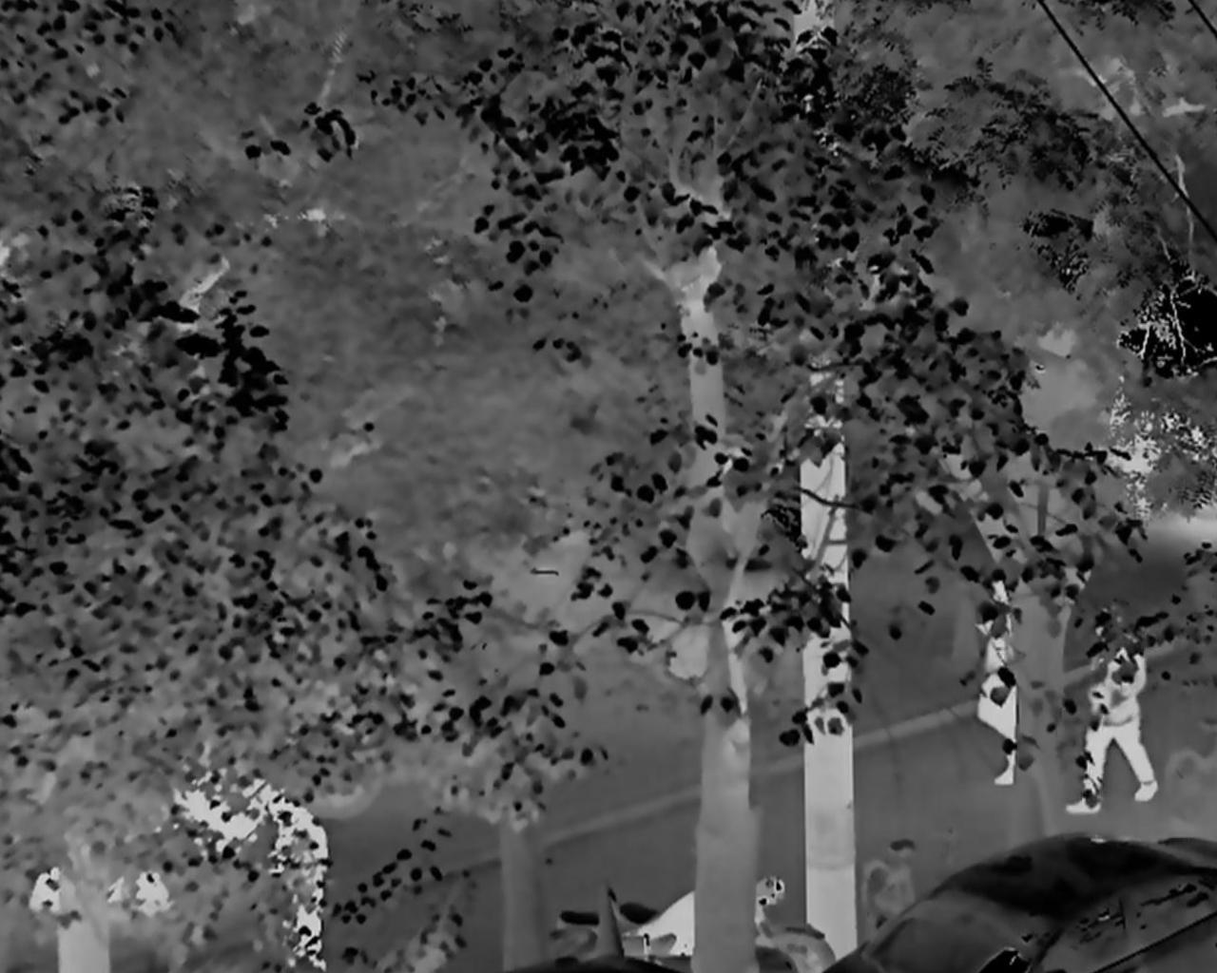person: (1067, 608, 1158, 816), (265, 790, 330, 973), (976, 576, 1016, 785)
